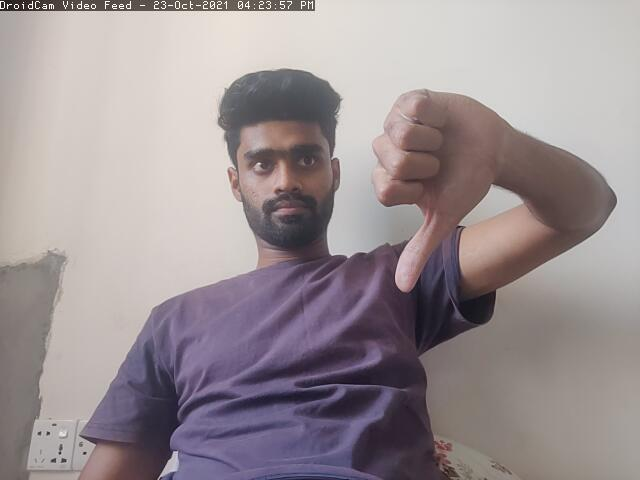ThumbsDown: (366, 78, 503, 291)
